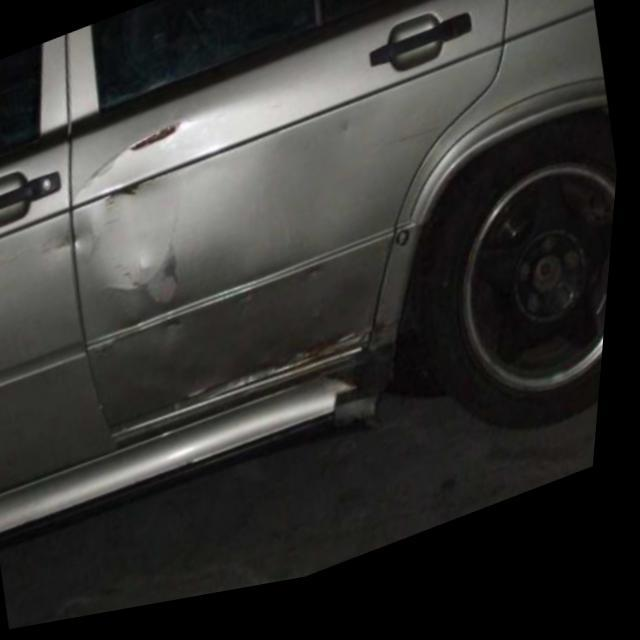crack: (179, 328, 409, 412), (130, 128, 181, 156), (106, 179, 150, 202), (101, 348, 119, 359), (169, 327, 188, 336), (246, 300, 260, 312), (311, 277, 328, 286)
dent: (275, 99, 394, 261), (105, 247, 187, 315), (49, 207, 91, 252)
scratch: (85, 158, 123, 193)
